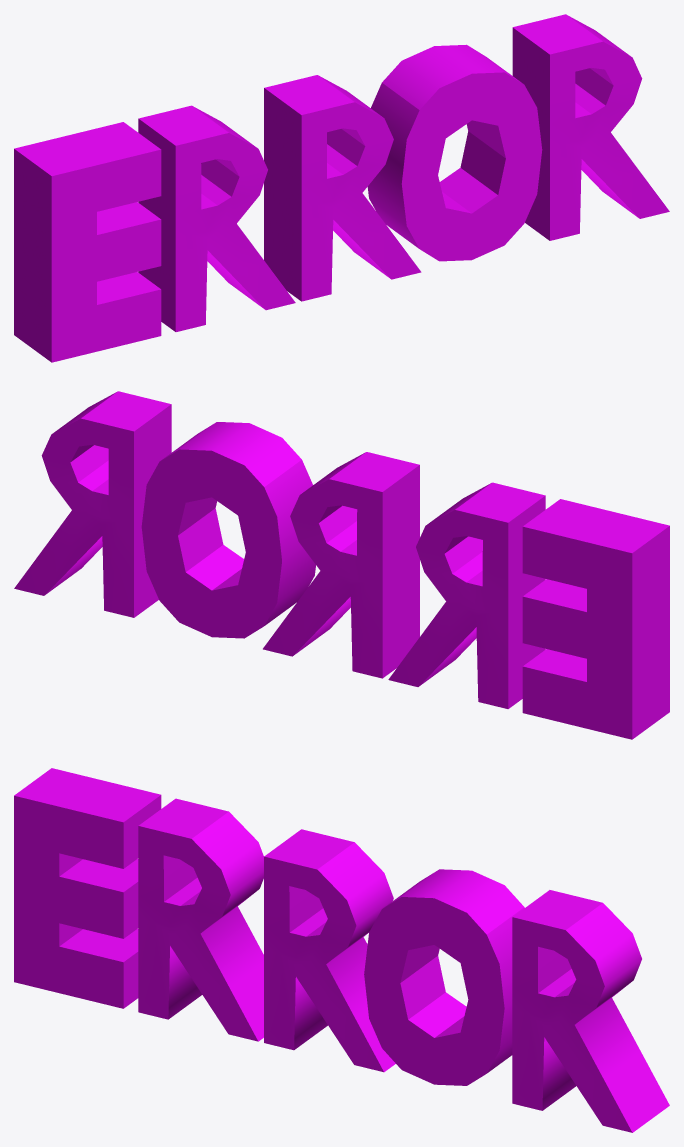
Rendered from ERROR.fbx.
The picture shows the model from 3 angles, top to bottom: view 1: azimuth 30°, elevation 25°; view 2: azimuth 150°, elevation 25°; view 3: azimuth 330°, elevation 25°; orthographic projection.
Parts seen in each view (by area): view 1: error; view 2: error; view 3: error.
Part boxes in pixels (x1,y1,x2,y2): error: [14, 14, 669, 362]; error: [14, 391, 669, 739]; error: [14, 768, 669, 1132].
Bounding box in the file's own units: 6.94 × 2 × 0.7407.
